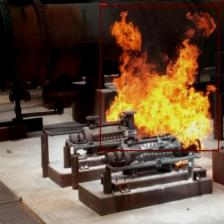fire: (100, 5, 218, 151)
